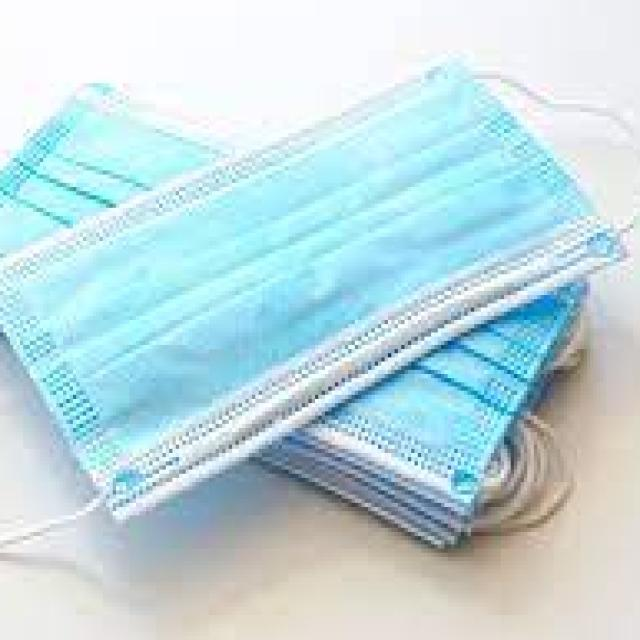organic: (13, 44, 599, 573)
